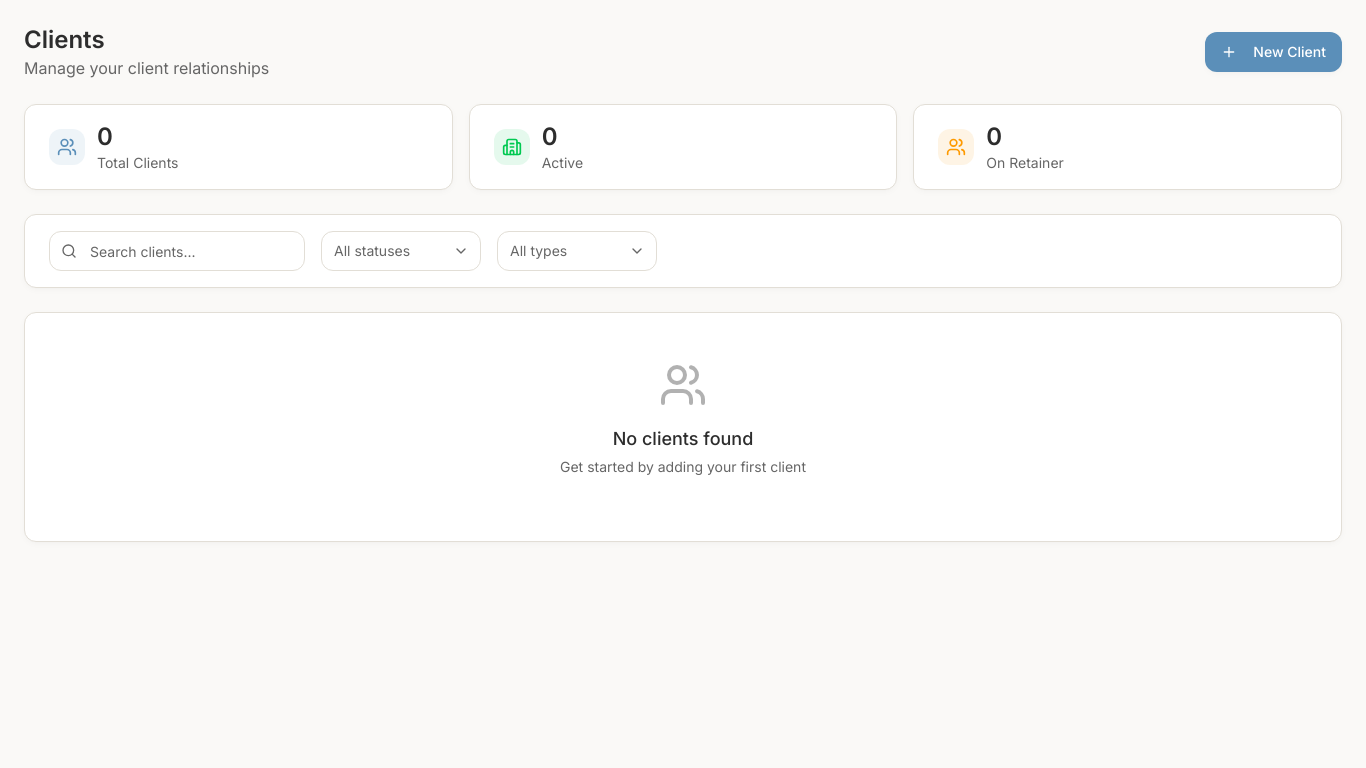
Scenario: ClientsPage › modal closes when cancel is clicked
# Open the modal
Click the button "New Client": click(1274, 52) [1205,32,1342,72]
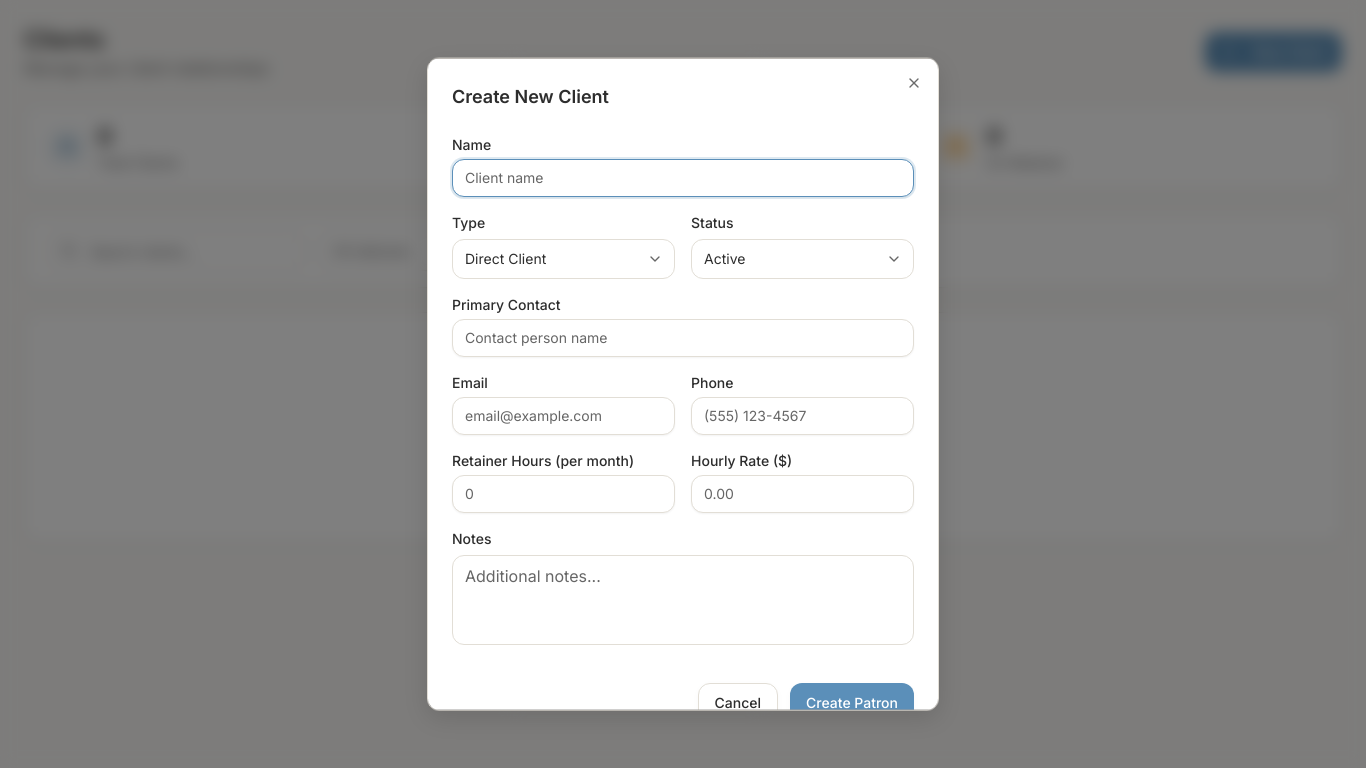
Check: the heading "Create New Client" is shown, box [452,86,609,107]
# Find and click cancel button
Click the button "Cancel": click(738, 703) [698,683,778,723]
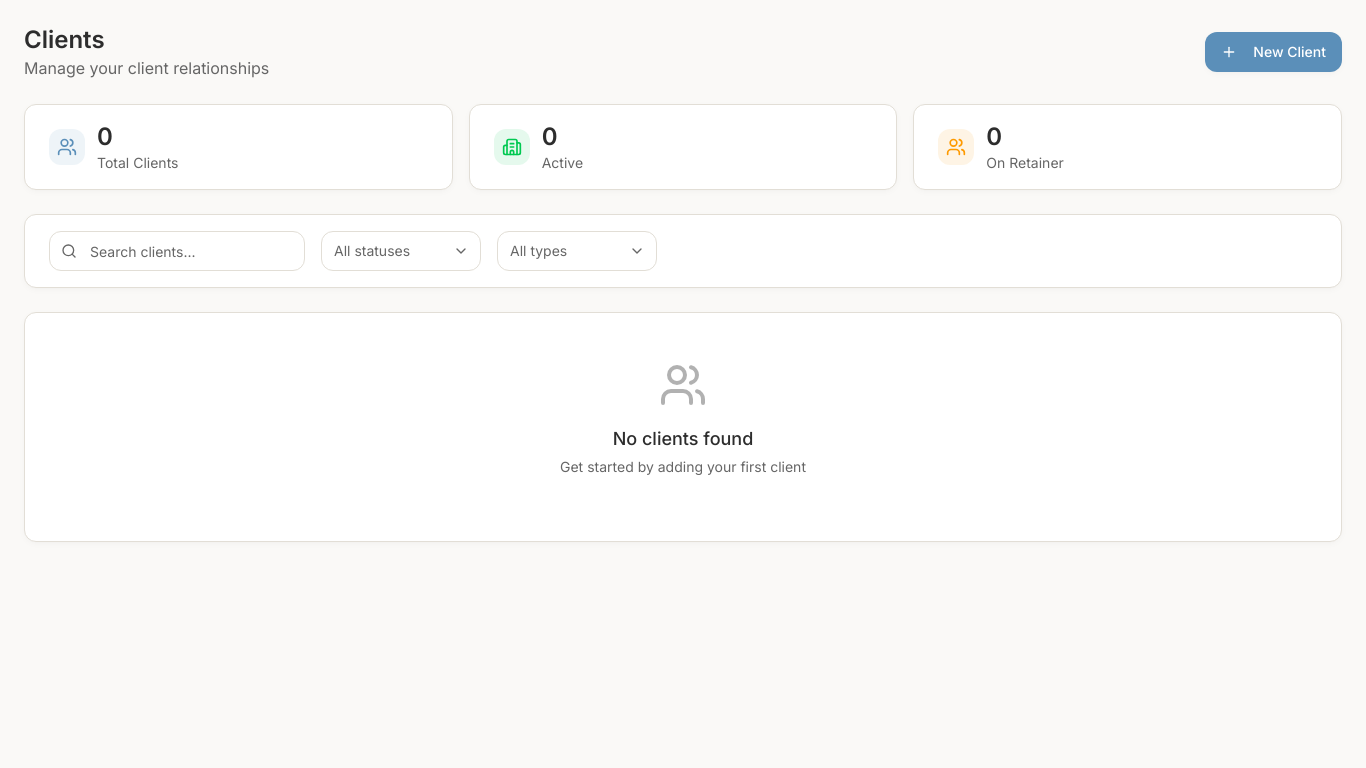
Check: the heading "Create New Client" is gone
